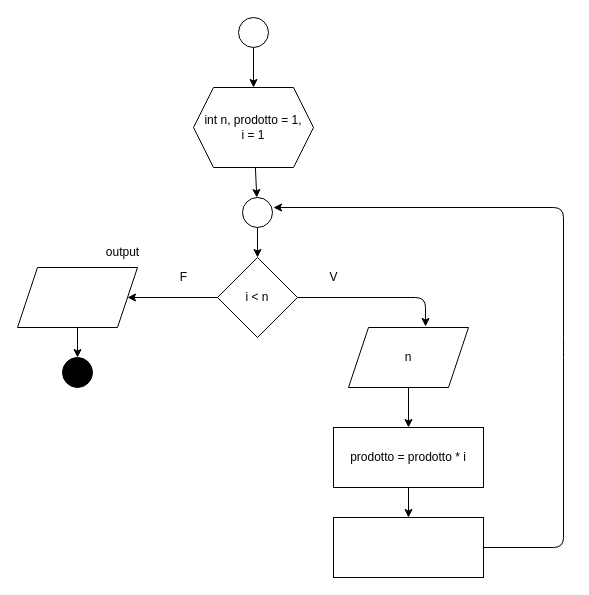
Some shapes in this 589 by 595 pixel diagram are drawn without their labels. Here are the shapes that lost their labels. From the top down, the centre of each, then its label:
[77,297]: prodotto
[408,547]: i++
